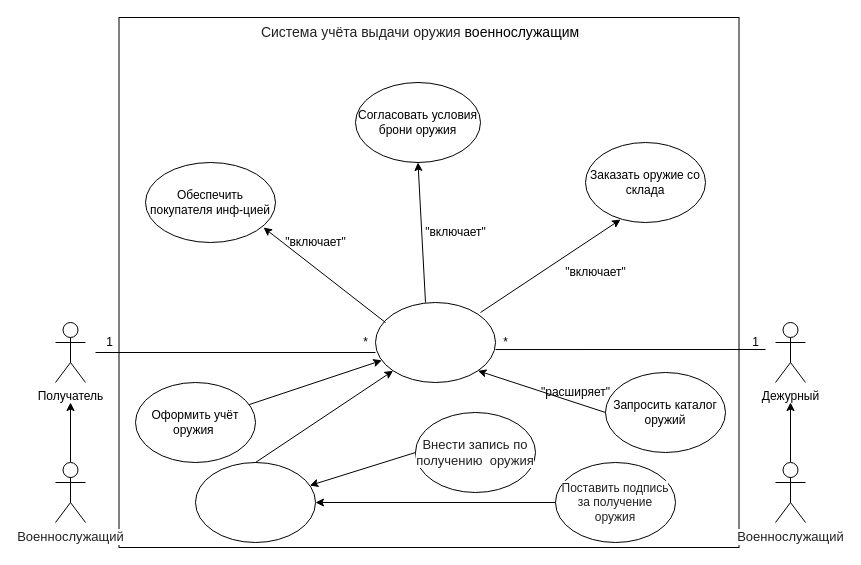
Image size: 861x565. Some labels were removed from this diagram. The shapes that lost their labels are listed below. From the top down, each one's centre as x and y in pixels, then its label:
At pixel 435 342: "Вести учёт оружия".
At pixel 255 502: "Зарегистрировать выдачу оружия".
